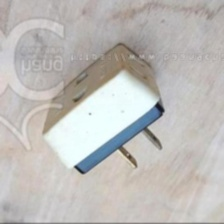three_eye_plug: (39, 42, 168, 181)
